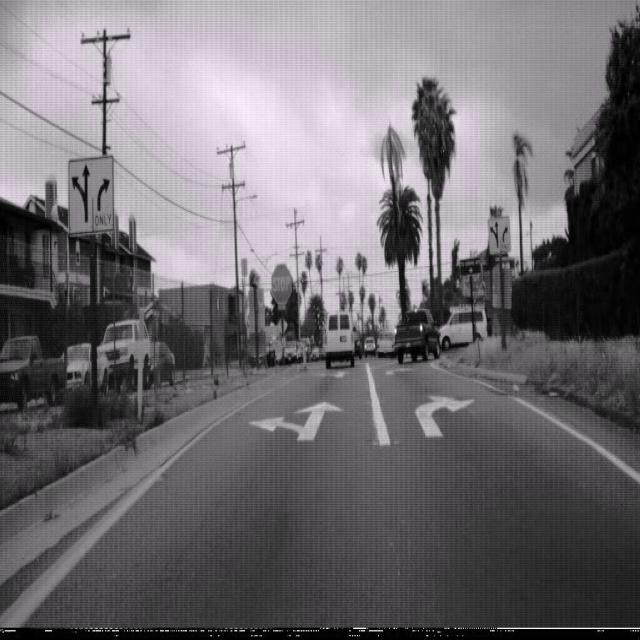stop_sign: (270, 261, 292, 304)
